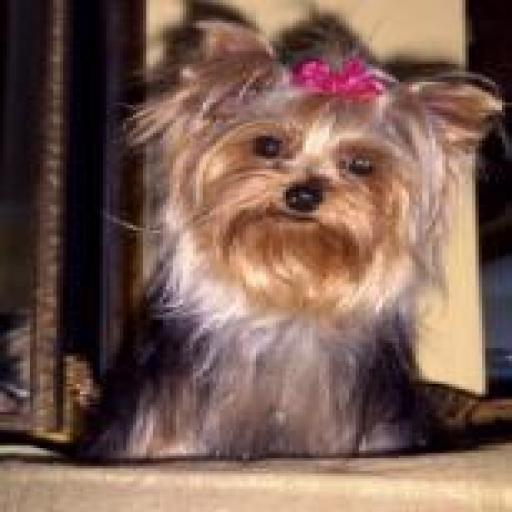dog_face: (146, 23, 492, 300)
